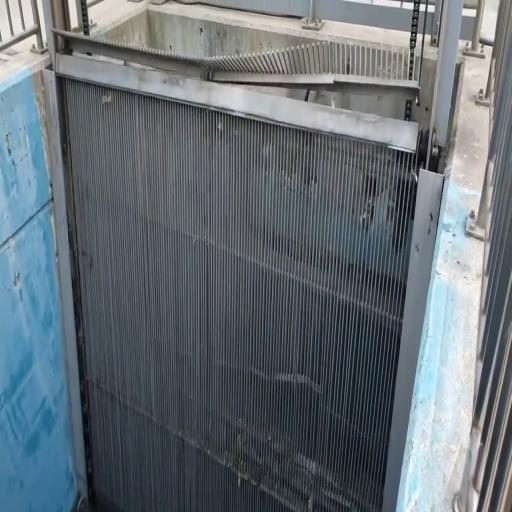rake: (54, 22, 446, 511)
rake_broken: (301, 37, 428, 91), (277, 63, 431, 103), (222, 45, 280, 89), (258, 42, 317, 72), (201, 56, 244, 91), (241, 64, 283, 98)
